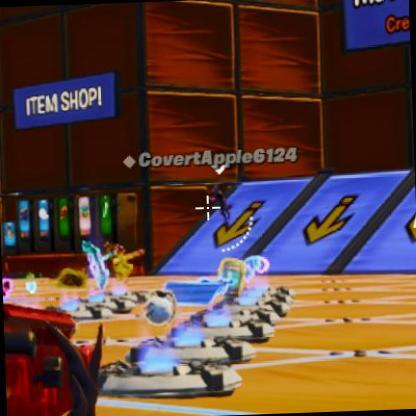person: (211, 188, 227, 219)
